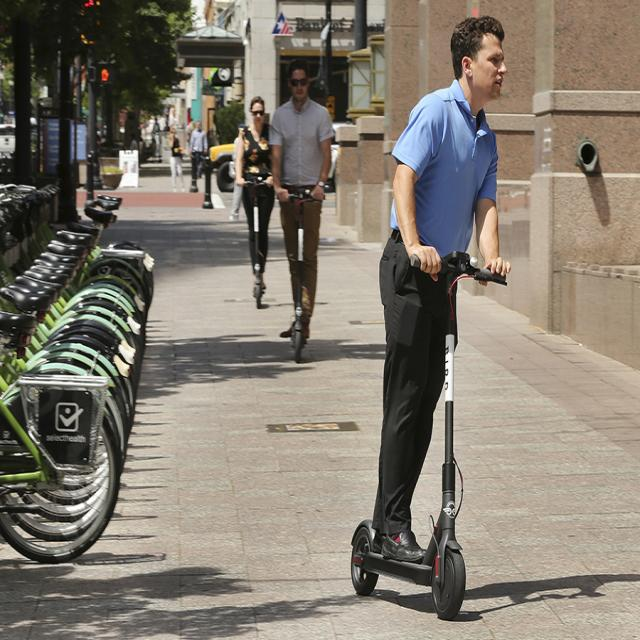non-helmet: (344, 6, 518, 632), (264, 48, 341, 360)
